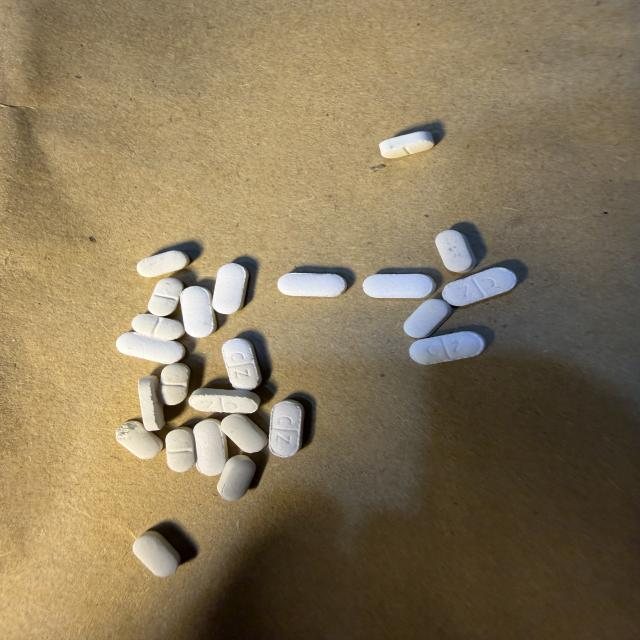pill: (443, 267, 517, 306), (410, 332, 485, 364), (116, 332, 185, 364), (133, 531, 180, 577), (222, 338, 262, 390), (269, 400, 304, 457), (194, 419, 227, 476), (404, 299, 451, 338), (221, 414, 267, 453), (189, 388, 259, 413), (213, 264, 248, 314), (181, 287, 216, 337), (116, 421, 162, 459), (363, 274, 435, 298), (435, 230, 475, 273), (217, 455, 255, 500), (278, 273, 346, 296), (138, 376, 164, 431), (380, 132, 434, 158), (137, 251, 189, 277), (132, 314, 184, 340), (165, 427, 195, 472), (148, 278, 183, 316), (160, 363, 190, 405)
